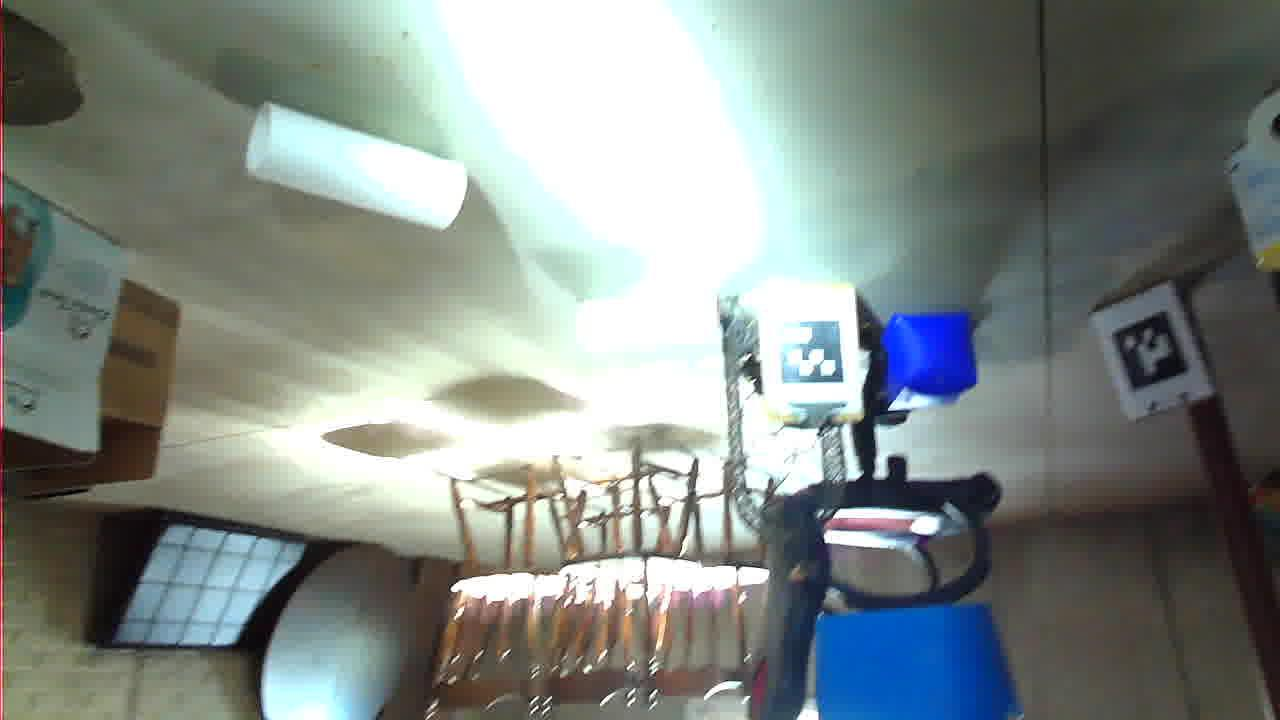coral: (814, 490, 1035, 619)
